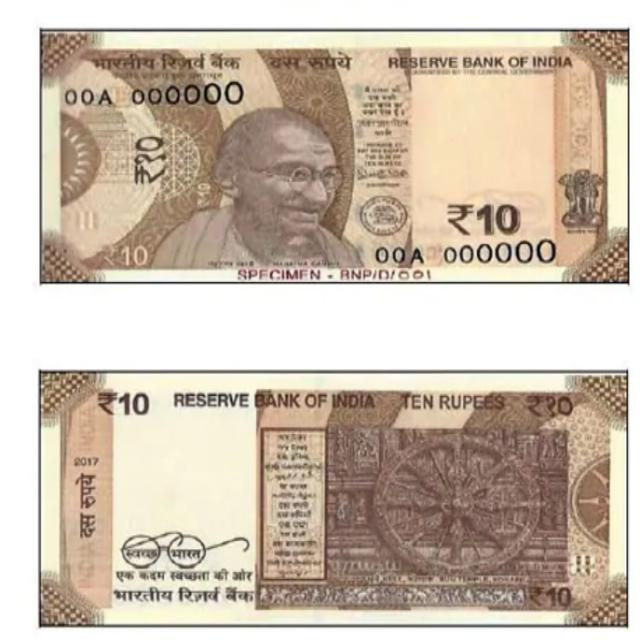10IndianRupees: (38, 26, 627, 283), (42, 371, 628, 627), (258, 28, 629, 285), (255, 374, 625, 627), (38, 372, 388, 620), (38, 28, 361, 288)
